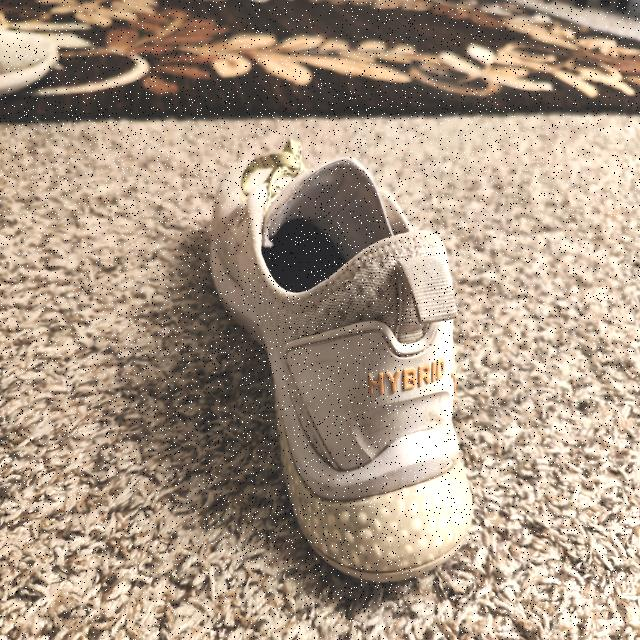white shoes: (221, 160, 471, 572)
